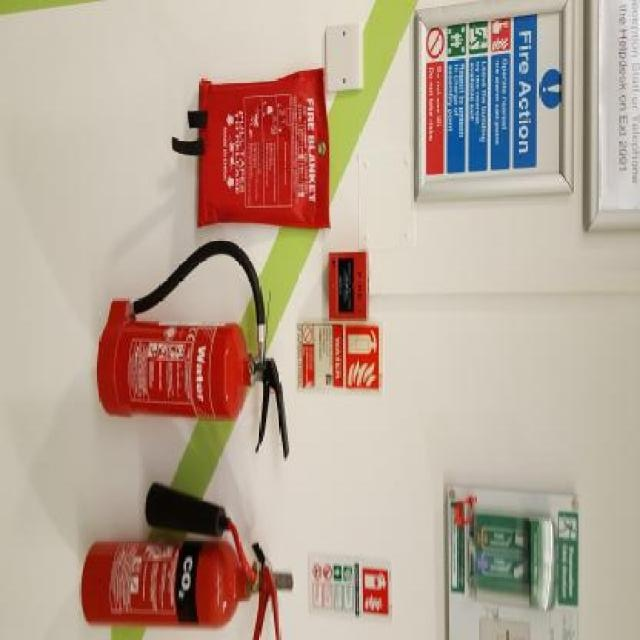fire extinguisher: (95, 235, 288, 461), (82, 481, 284, 640)
